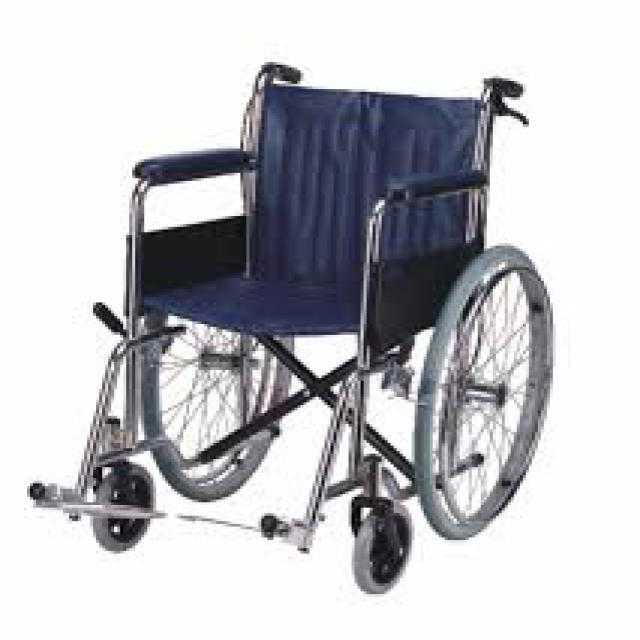wheelchair: (21, 22, 586, 632)
